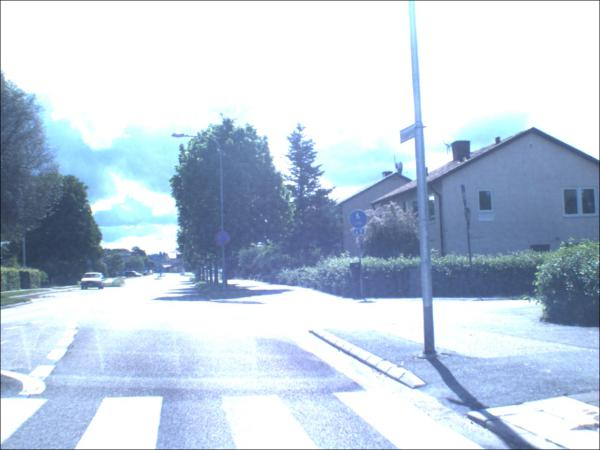NO_PARKING: (216, 233, 232, 247)
